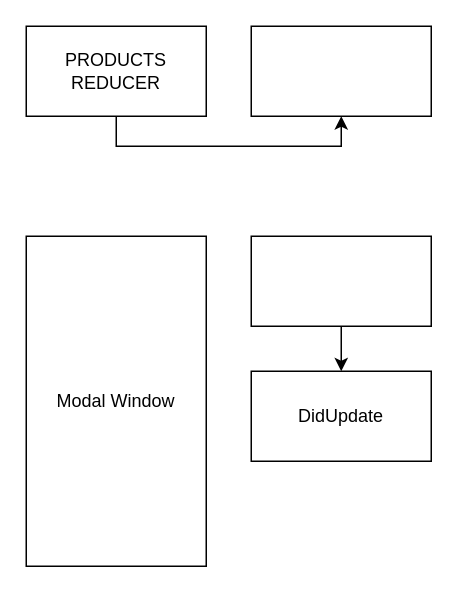
Some shapes in this 458 by 593 pixel diagram are drawn without their labels. The shapes that lost their labels are listed below. From the top down, each one's centre as x and y in pixels, then its label:
At (340,70): "EDIT REDUCER".
At (340,280): "DidMount".
